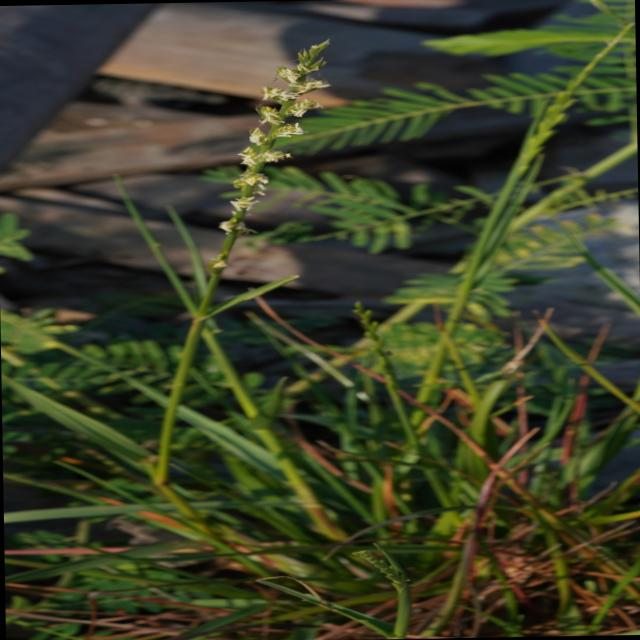Lolium: (198, 38, 344, 272)
